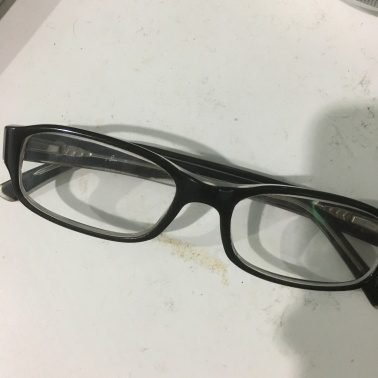glasses: (12, 105, 377, 300)
